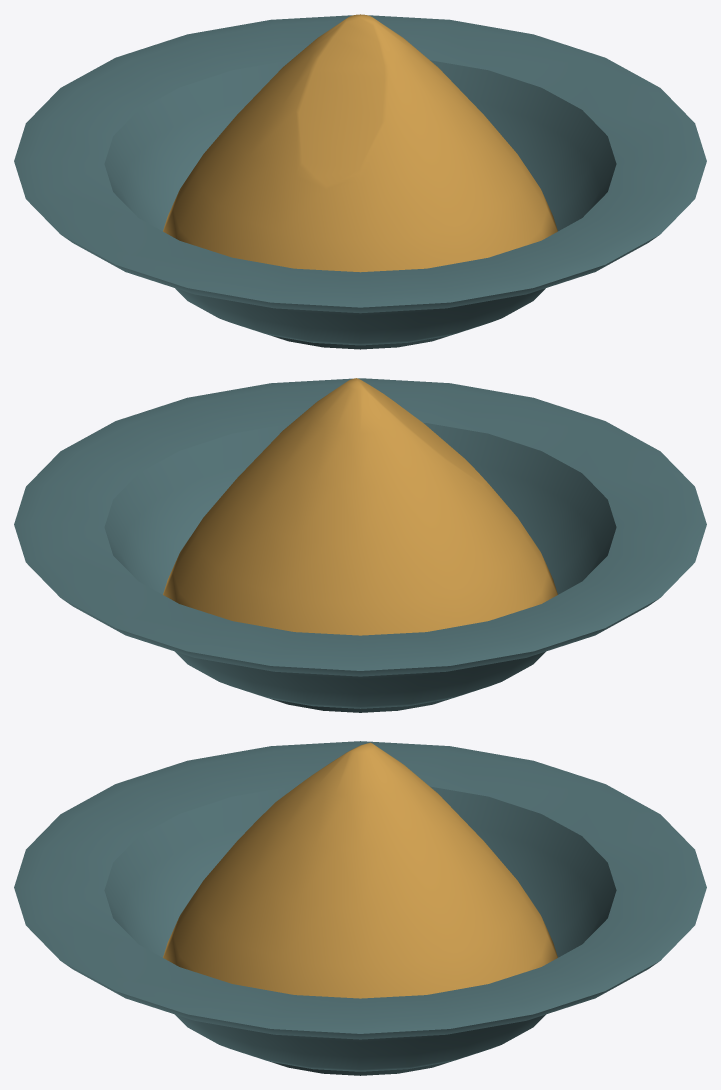
The model's file is SE_119_yellow_substance_mountain.glb.
The picture shows the model from 3 angles, top to bottom: view 1: azimuth 30°, elevation 25°; view 2: azimuth 150°, elevation 25°; view 3: azimuth 270°, elevation 25°; orthographic projection.
Visible parts, largest first — view 1: plate_big, yellow_substance; view 2: plate_big, yellow_substance; view 3: plate_big, yellow_substance.
Boxes of the visible parts, x1=… form: plate_big: x1=14, y1=15, x2=706, y2=349; yellow_substance: x1=163, y1=14, x2=557, y2=272; plate_big: x1=14, y1=378, x2=706, y2=712; yellow_substance: x1=163, y1=378, x2=557, y2=635; plate_big: x1=14, y1=741, x2=706, y2=1075; yellow_substance: x1=163, y1=742, x2=557, y2=998.
Bounding box in the file's own units: 0.7479 × 0.3221 × 0.7479.
